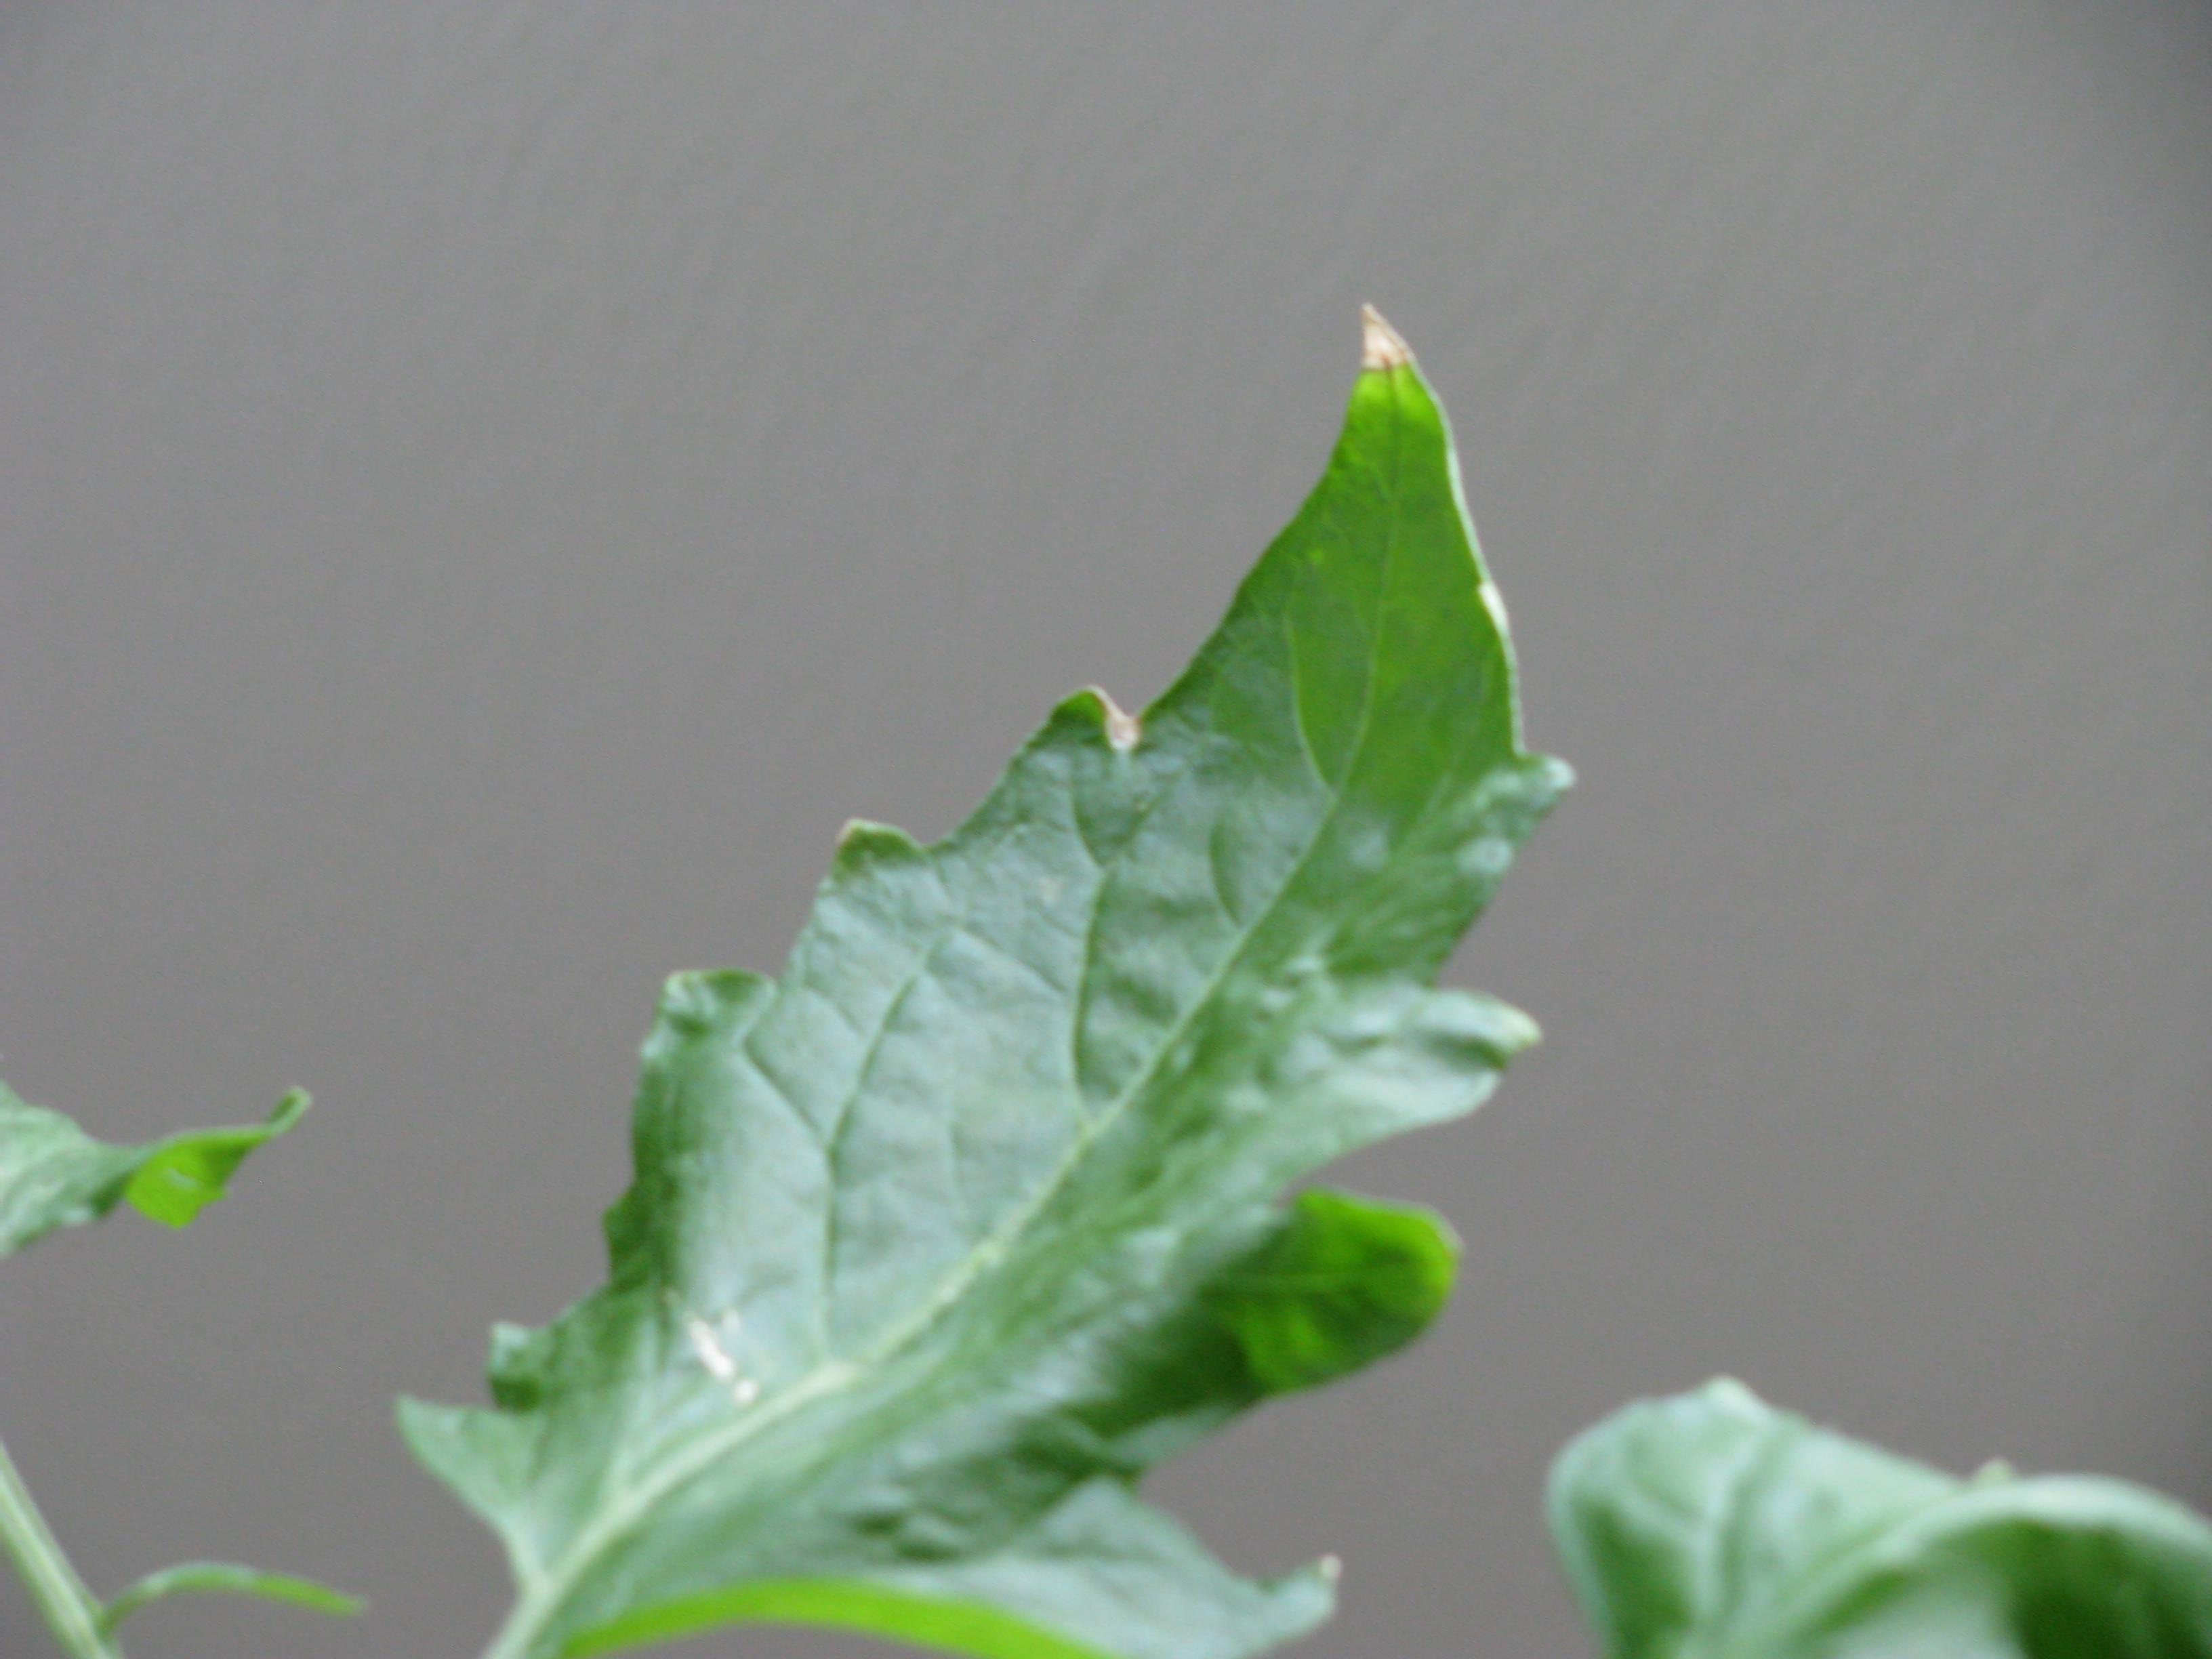Tomato leaf: (380, 274, 1569, 1624)
